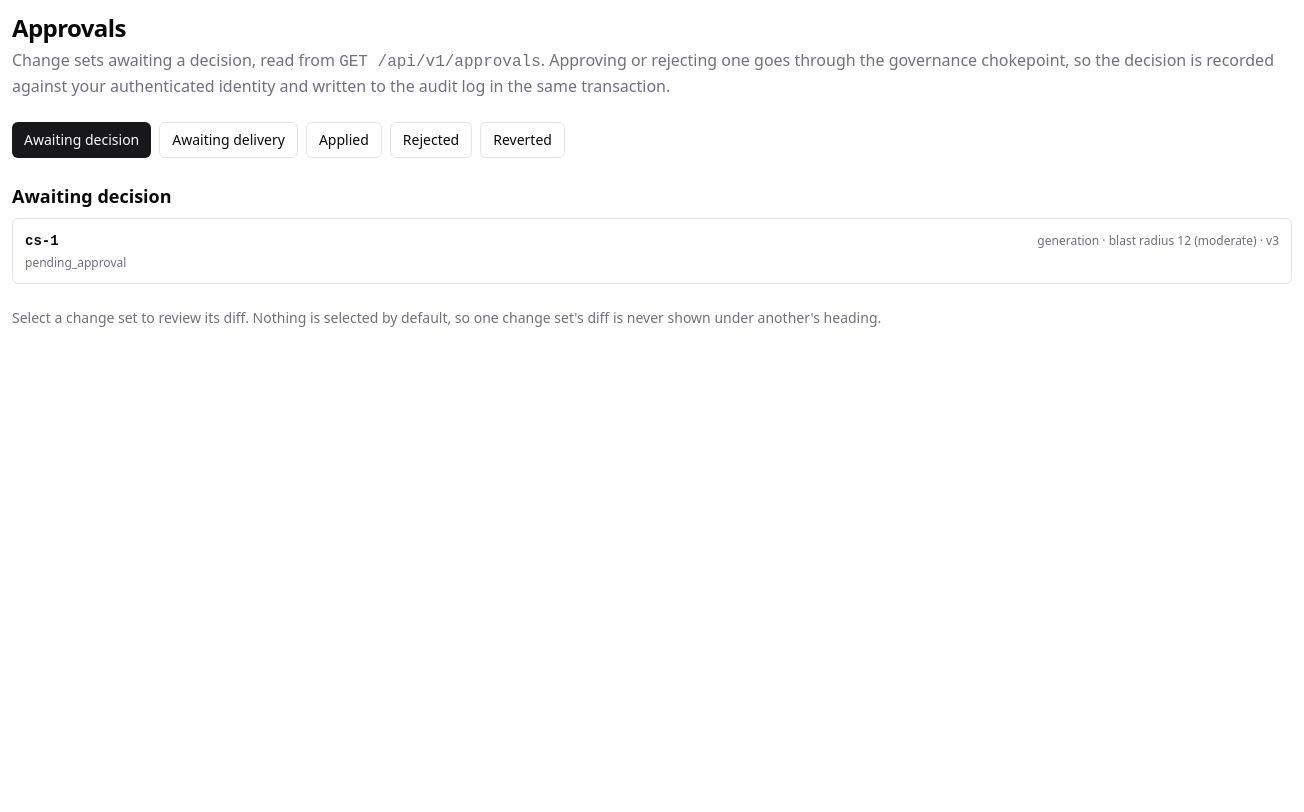
Test: Approvals renders a real diff and submits a real decision › tells the truth when the approval succeeded but no agent was connected
The width and height of the screenshot is (1304, 812).
Click the button "cs-1" at (42, 241), box [12,218,1292,284]
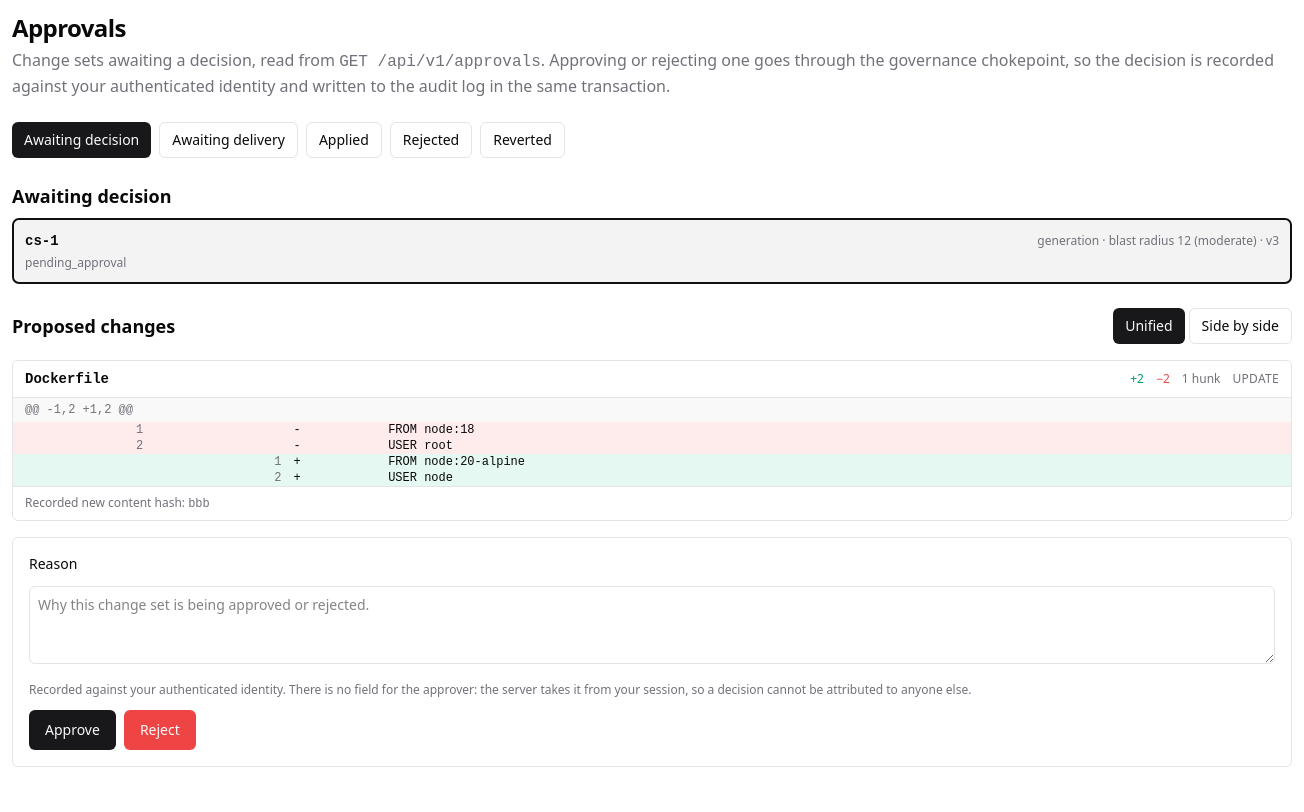
Result: the element named "diff for" is shown at [12,360,1292,521]
Click the button "Approve" at (72, 730), box [29,710,116,750]
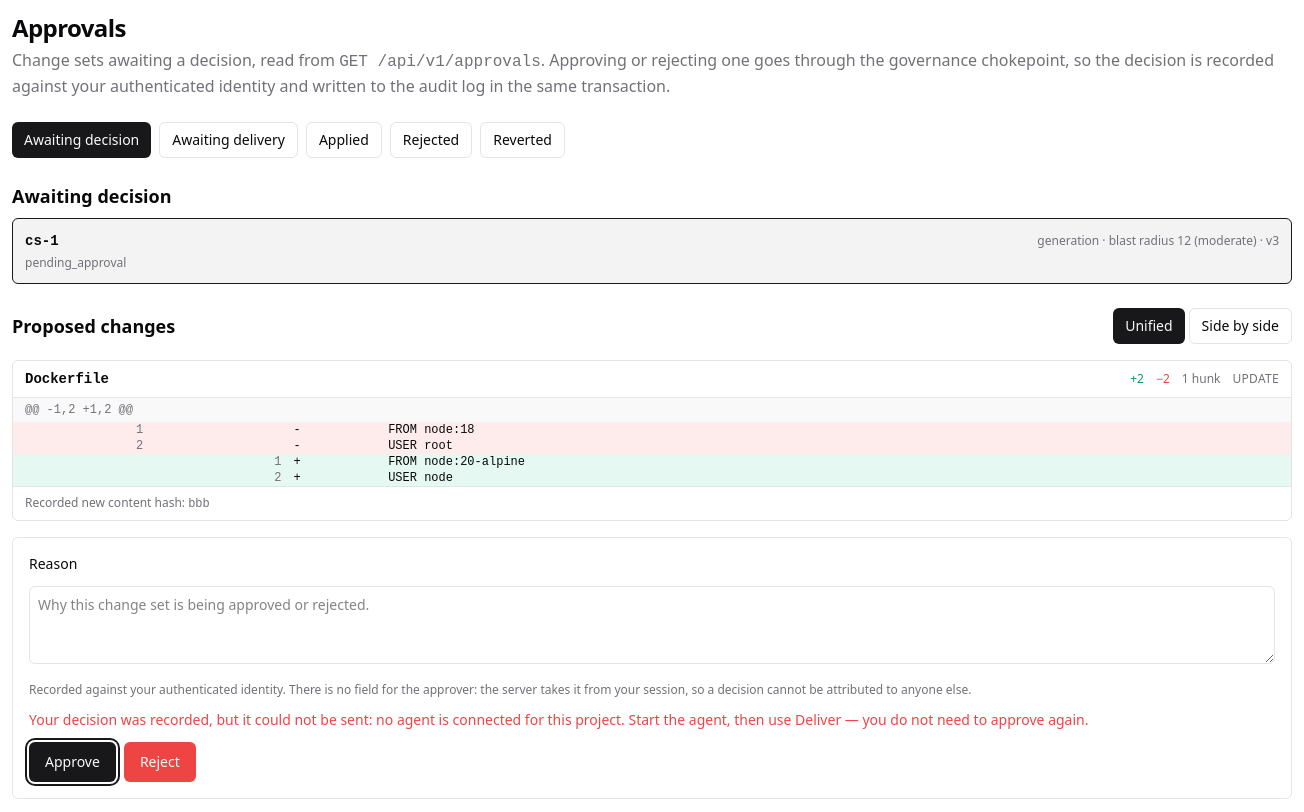
Result: the message shows "decision was recorded" at [29,710,1088,729]
Result: the message shows "no agent is connected" at [29,710,1088,729]
Result: the message shows "do not need to approve again" at [29,710,1088,729]
